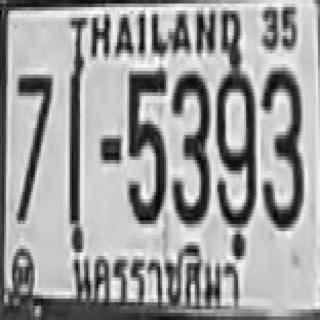N03: (262, 70, 303, 230), (172, 71, 209, 224)
N05: (129, 70, 166, 222)
N07: (15, 71, 52, 220)
N09: (216, 70, 255, 230)
P30: (66, 237, 250, 320)
